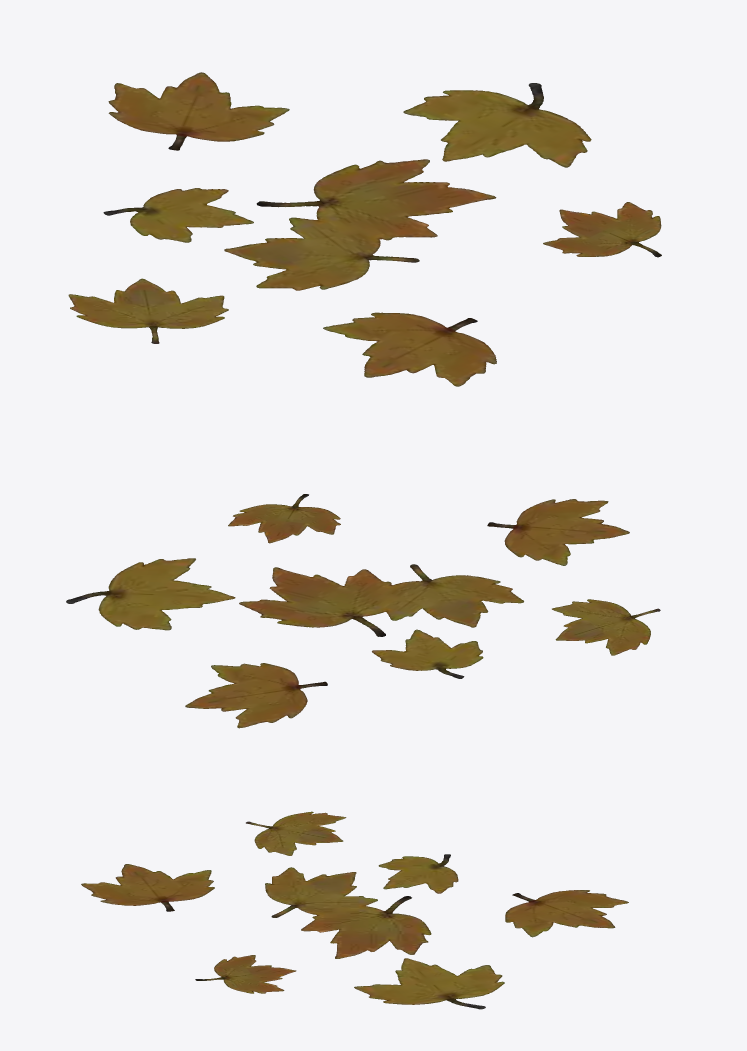
3 views of the same model, one above another, from view 1: azimuth 30°, elevation 25°; view 2: azimuth 150°, elevation 25°; view 3: azimuth 270°, elevation 25° (orthographic). The views are drawn at different scales.
Parts seen in each view (by area): view 1: SM_ScatteredLeaves_Maple_05_Red_LOD0; view 2: SM_ScatteredLeaves_Maple_05_Red_LOD0; view 3: SM_ScatteredLeaves_Maple_05_Red_LOD0.
Part boxes in pixels (bbox=[...]): SM_ScatteredLeaves_Maple_05_Red_LOD0: bbox=[68, 72, 661, 386]; SM_ScatteredLeaves_Maple_05_Red_LOD0: bbox=[66, 494, 660, 728]; SM_ScatteredLeaves_Maple_05_Red_LOD0: bbox=[81, 811, 628, 1009].
Size of the model in its own units: 1.35 by 0 by 1.66.
1 material, 1 textured.
